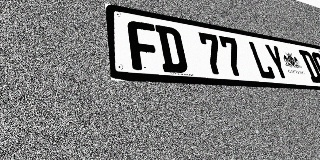7: (197, 32, 229, 76), (217, 35, 248, 78)
C: (310, 51, 320, 84)
D: (155, 25, 189, 74), (298, 49, 320, 83)
F: (127, 20, 162, 72)
L: (247, 41, 277, 80)
Y: (263, 43, 291, 81)
